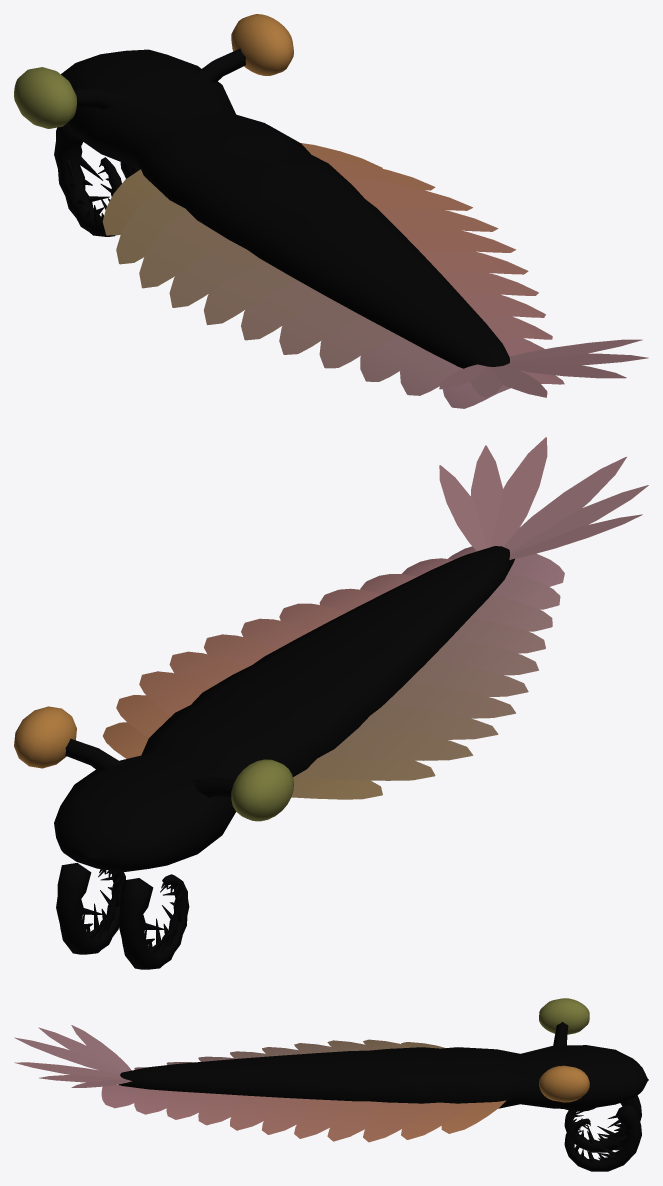
The model's file is anomalocaris_game.glb.
3 renders of one model, top to bottom at view 1: azimuth 30°, elevation 25°; view 2: azimuth 150°, elevation 25°; view 3: azimuth 270°, elevation 25°, orthographic. The views are drawn at different scales.
Visible parts, largest first — view 1: anomalocaris_game; view 2: anomalocaris_game; view 3: anomalocaris_game.
Part boxes in pixels (left/top/right/bottom): anomalocaris_game: left=14, top=14, right=648, bottom=408; anomalocaris_game: left=14, top=437, right=648, bottom=969; anomalocaris_game: left=14, top=998, right=648, bottom=1171.
Bounding box in the file's own units: 0.2986 × 0.1735 × 0.7805.
